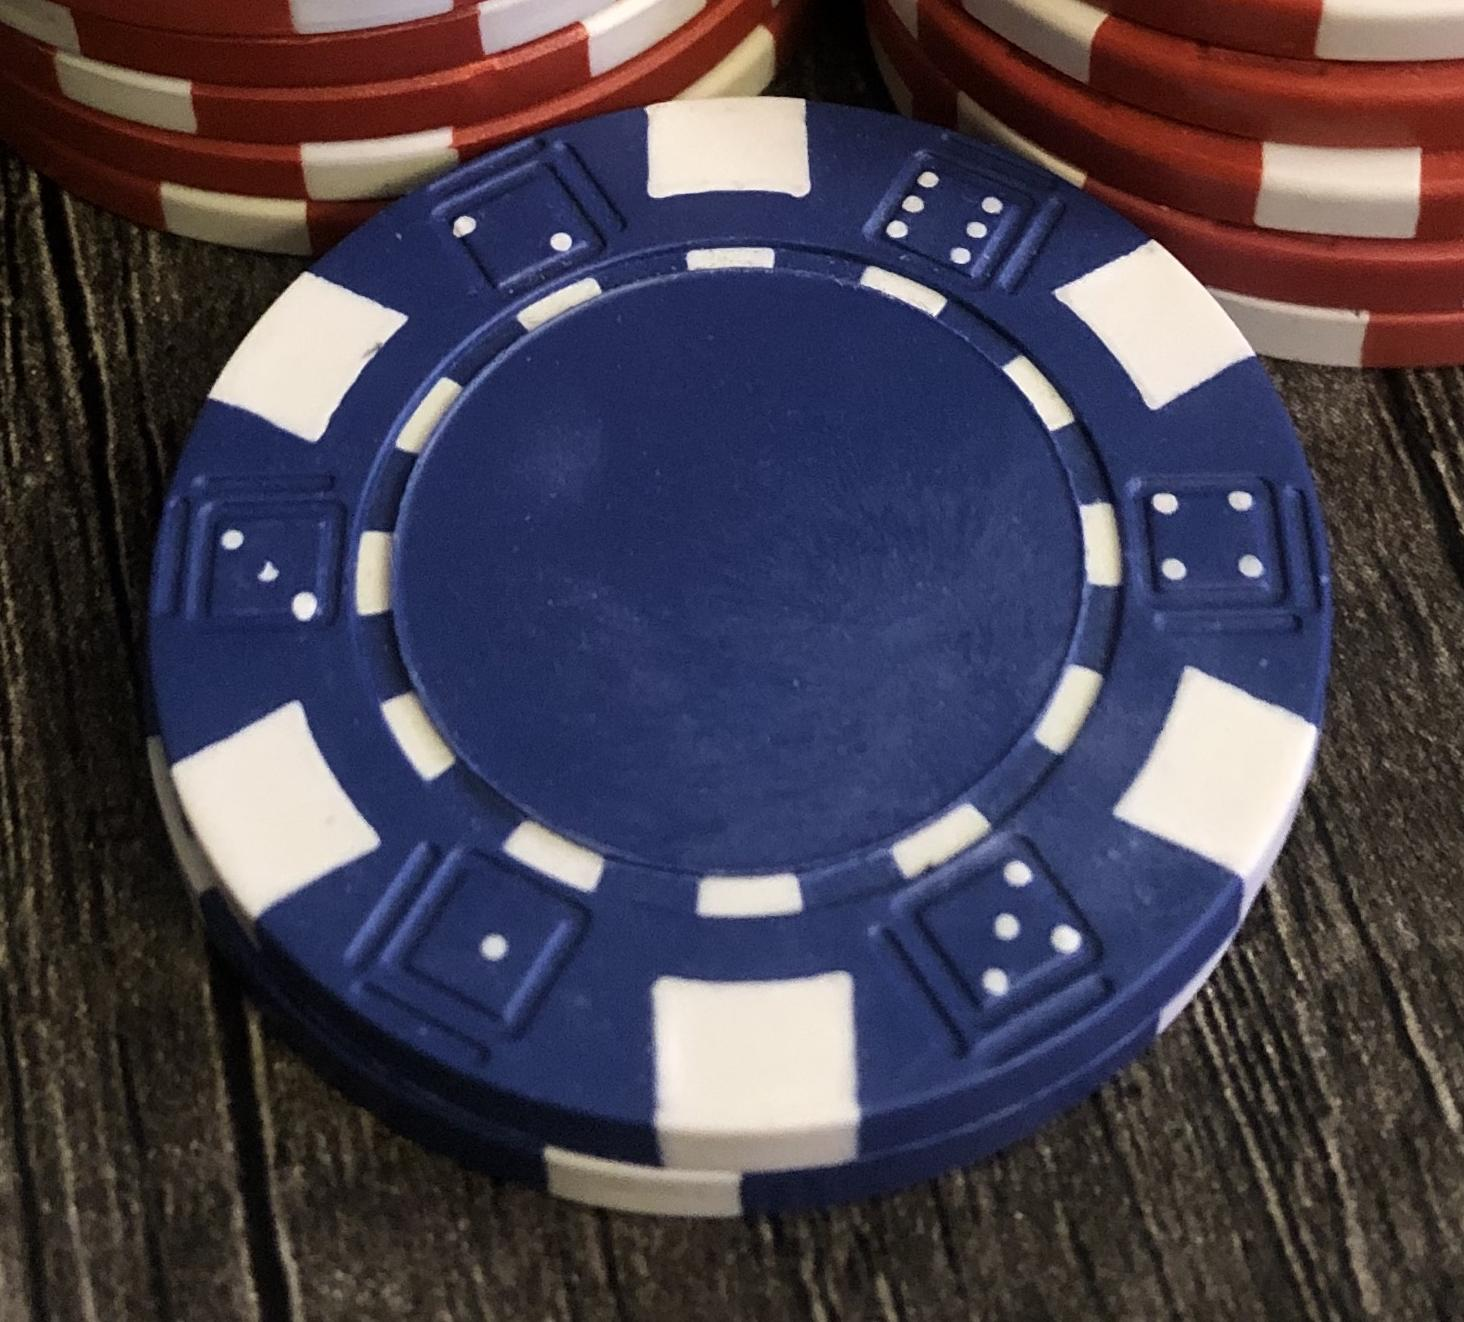Chip: (1, 1, 1464, 1322)
